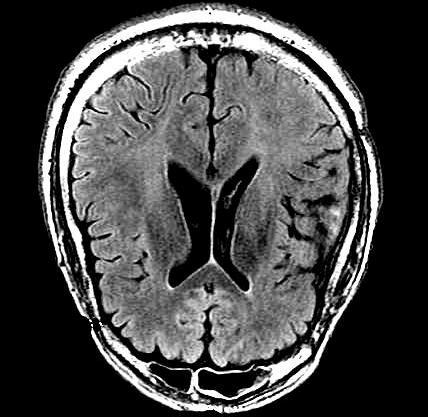Normal_Brain: (1, 1, 428, 406)
